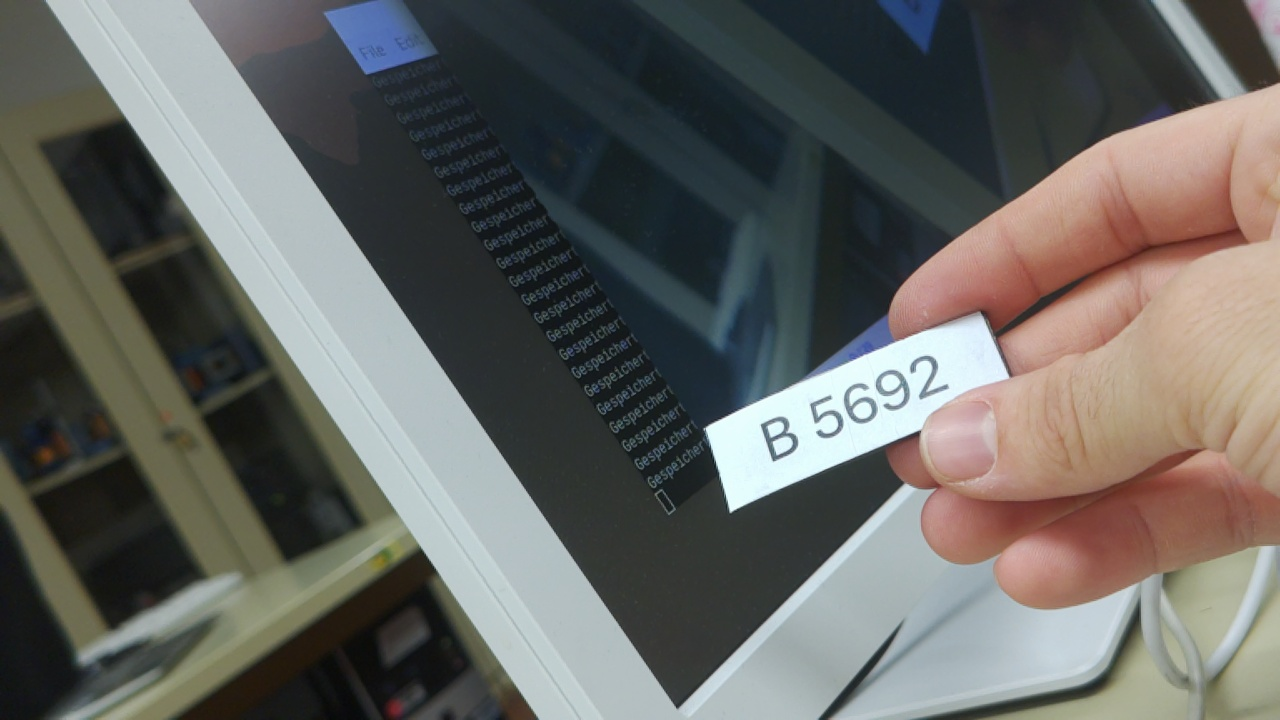license_plate: (693, 303, 1035, 518)
